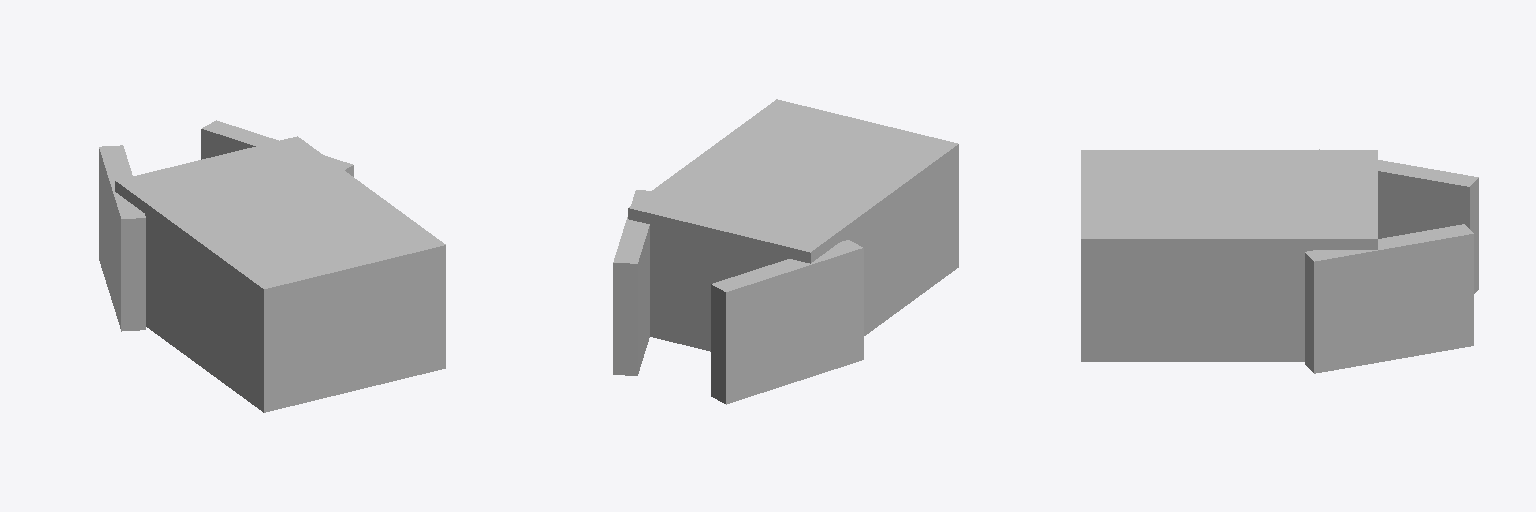
File: tail.obj
The picture shows the model from 3 angles: view 1: azimuth 30°, elevation 25°; view 2: azimuth 150°, elevation 25°; view 3: azimuth 270°, elevation 25°; orthographic projection.
Parts seen in each view (by area): view 1: cube; view 2: cube; view 3: cube.
Part boxes in pixels (bbox=[...]): cube: bbox=[99, 120, 445, 412]; cube: bbox=[613, 99, 958, 404]; cube: bbox=[1081, 149, 1478, 373].
Bounding box in the file's own units: 1.34 × 0.6875 × 2.01.